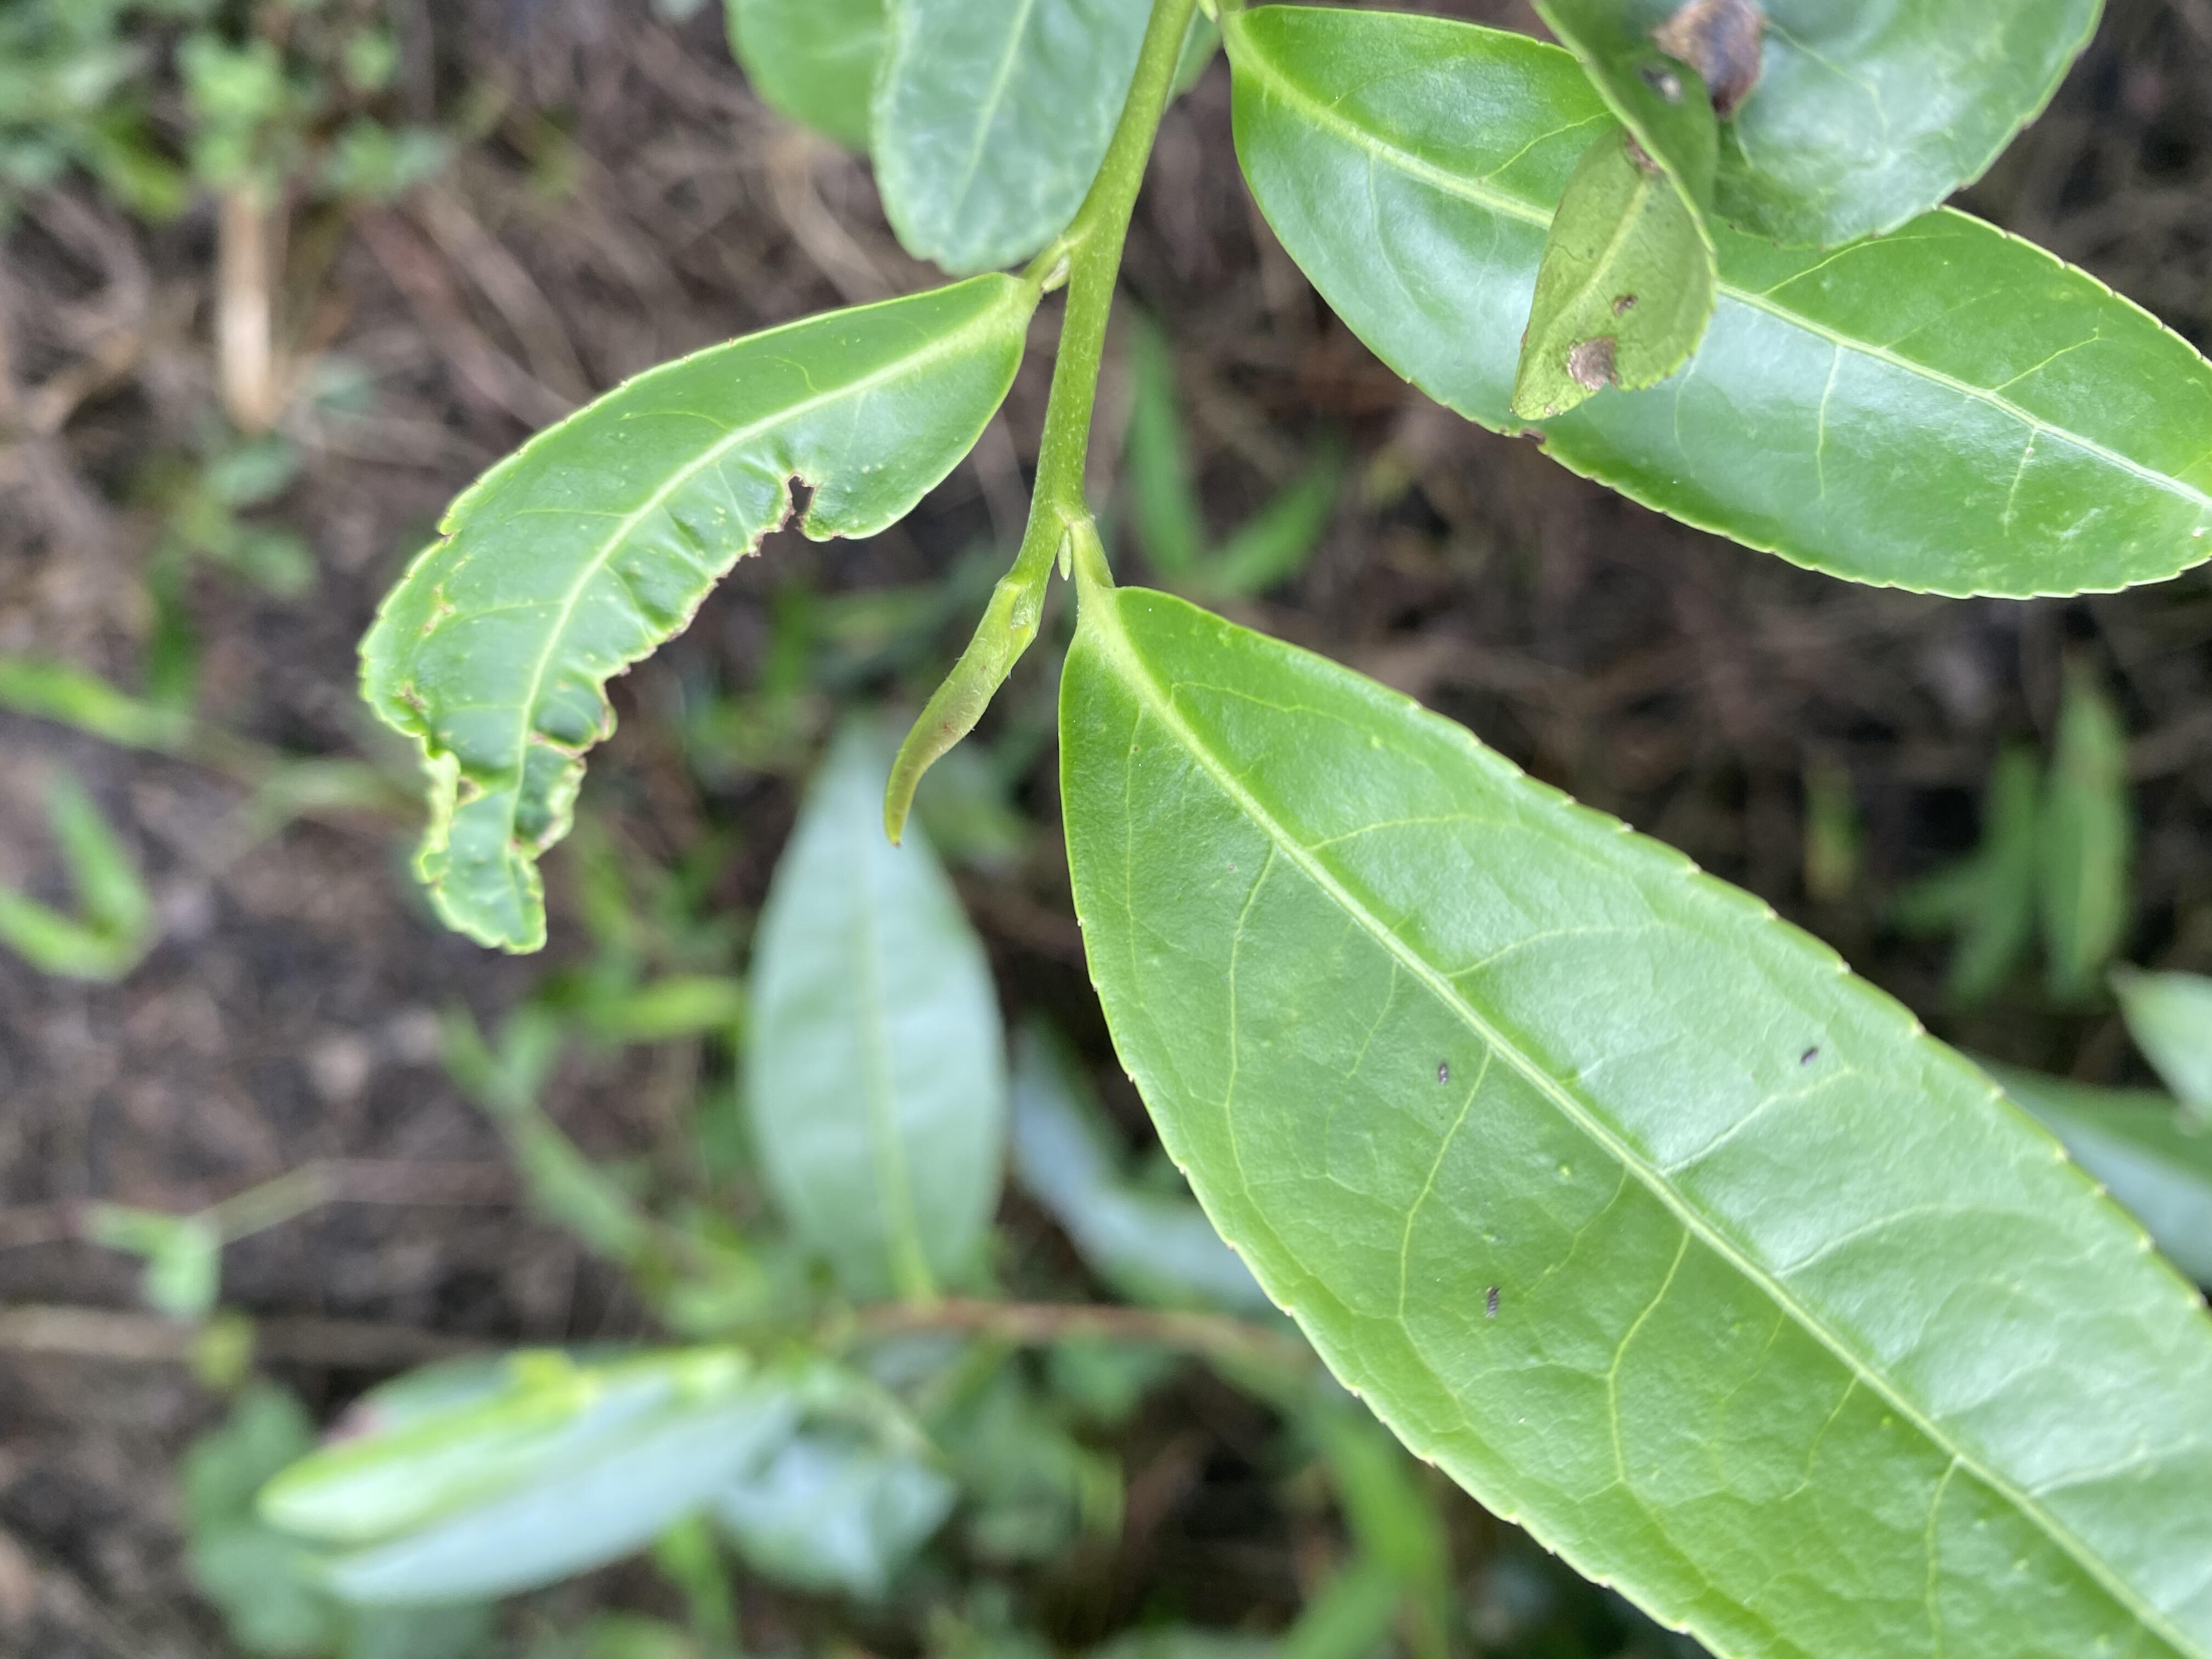chihuo_high: (354, 270, 1033, 958)
healthy: (1223, 3, 2212, 601)
tanju_high: (1515, 5, 2104, 423)
